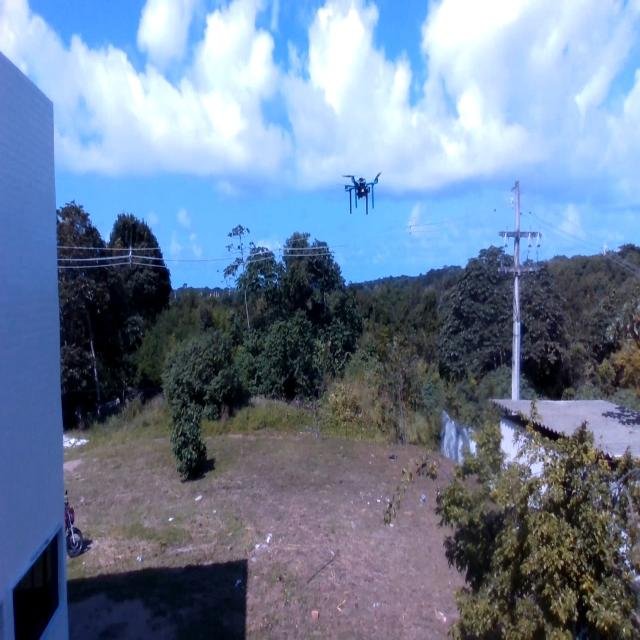-uav-: (333, 154, 393, 223)
